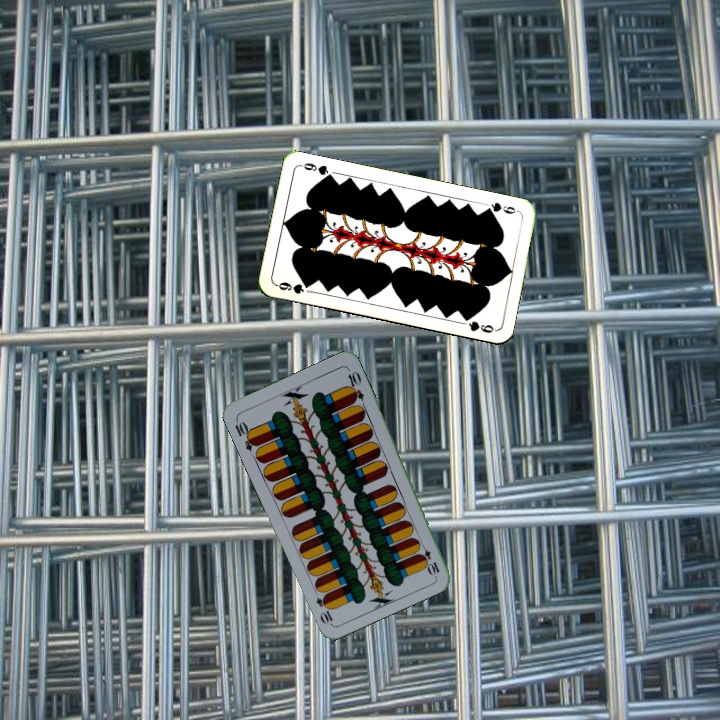E10: (230, 415, 260, 454), (415, 539, 442, 578)
G9: (272, 278, 314, 297), (480, 198, 522, 216)
